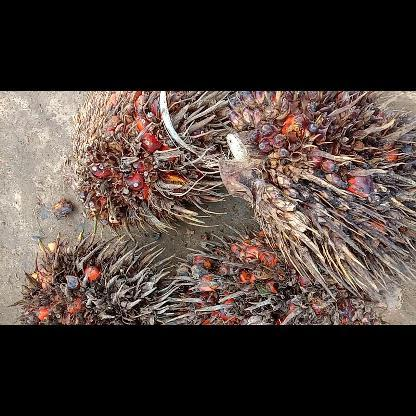Terlalu masak: (212, 91, 416, 301), (72, 90, 254, 238), (166, 220, 394, 324), (7, 228, 190, 324)
